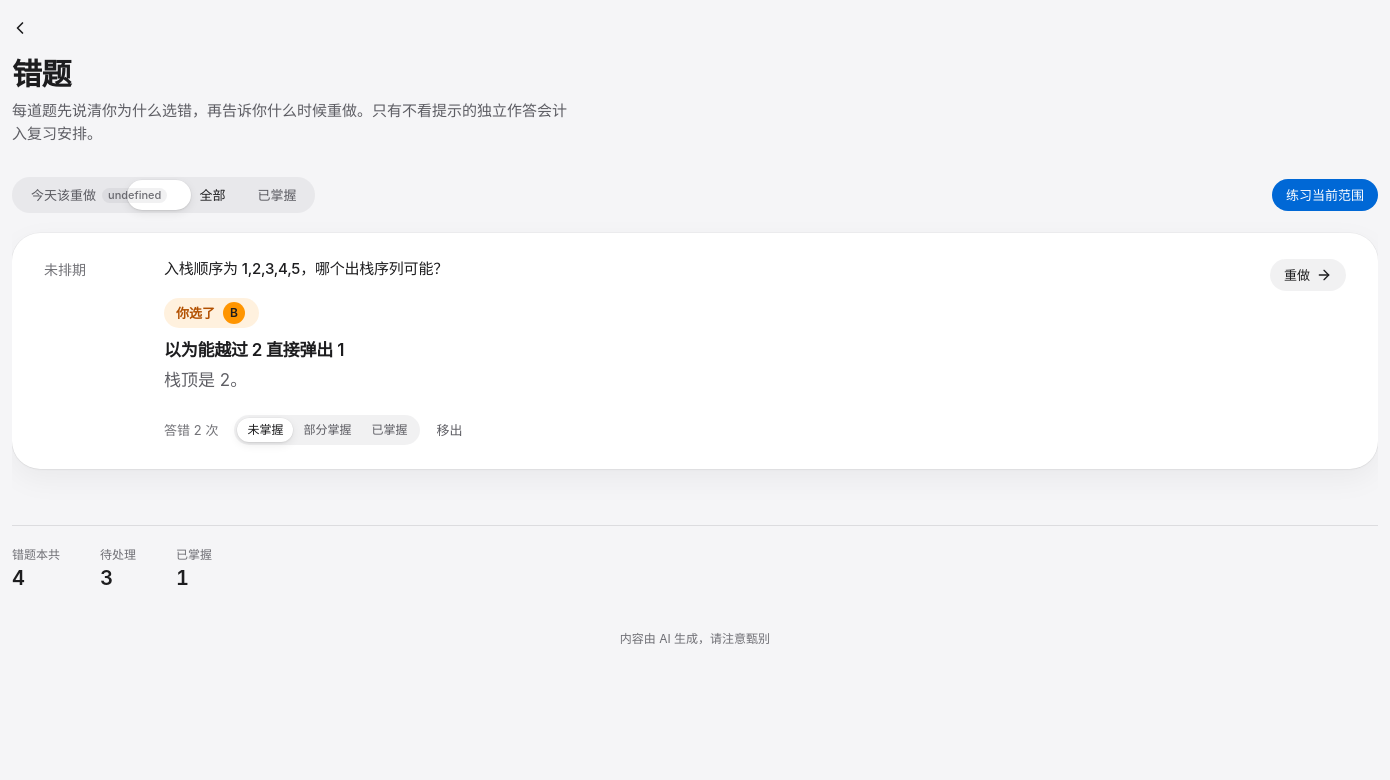
Test: WrongQuestionsView › updates mastery in place and reports a failure on its own row
Click the radio button labelled "已掌握" in the row of "答错 2 次": (390, 430) [362,418,418,442]
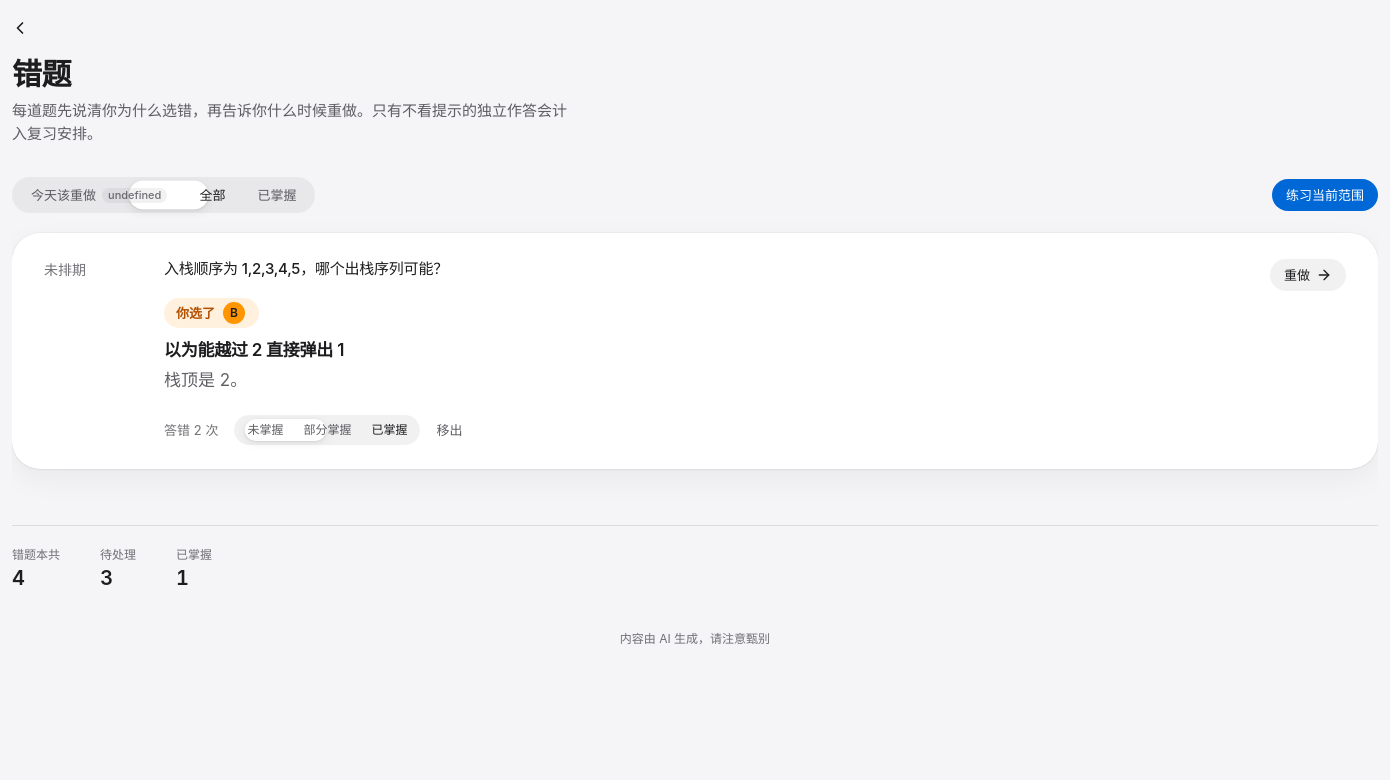
Click the radio button labelled "未掌握": (265, 430) [237,418,293,442]
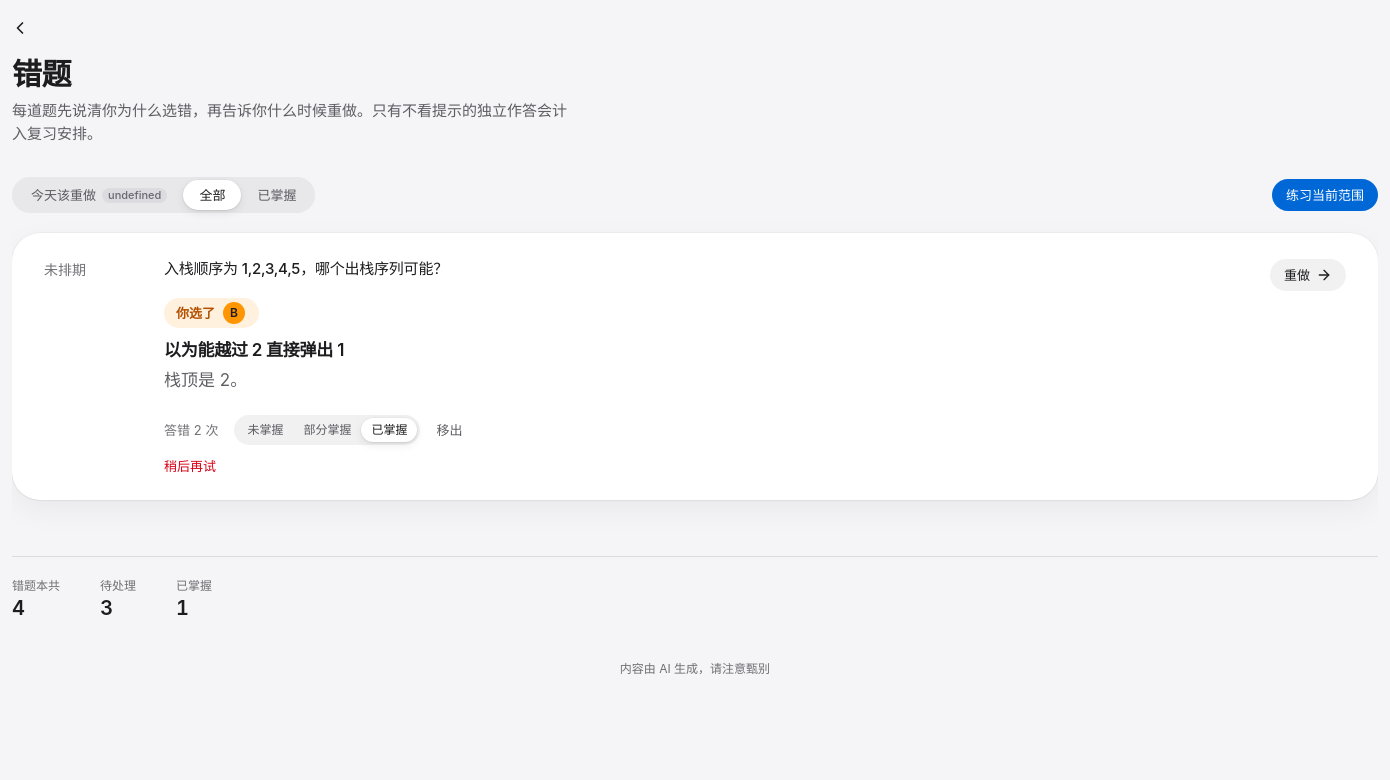
Expected: the message "稍后再试" is shown, [164,458,216,474]
